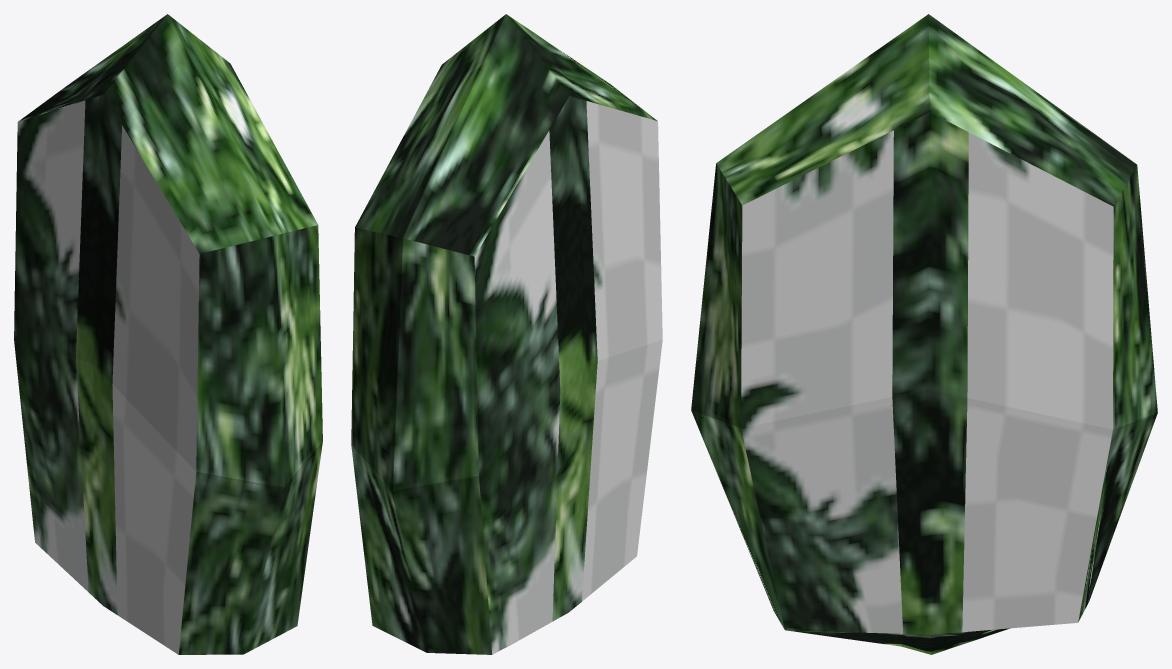
The model's file is pipa.fbx.
The picture shows the model from 3 angles, left to right: view 1: azimuth 30°, elevation 25°; view 2: azimuth 150°, elevation 25°; view 3: azimuth 270°, elevation 25°; orthographic projection. The views are drawn at different scales.
Parts seen in each view (by area): view 1: Cube; view 2: Cube; view 3: Cube.
Part boxes in pixels (x1=…): Cube: x1=14, y1=14, x2=322, y2=654; Cube: x1=351, y1=14, x2=662, y2=654; Cube: x1=691, y1=14, x2=1157, y2=654.
Size of the model in its own units: 63.57 by 253 by 167.
